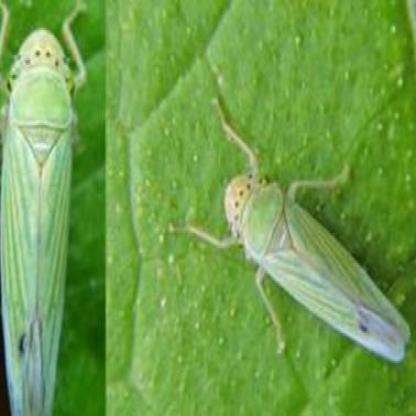Green-Leafhopper: (183, 102, 410, 368), (0, 0, 90, 416)
